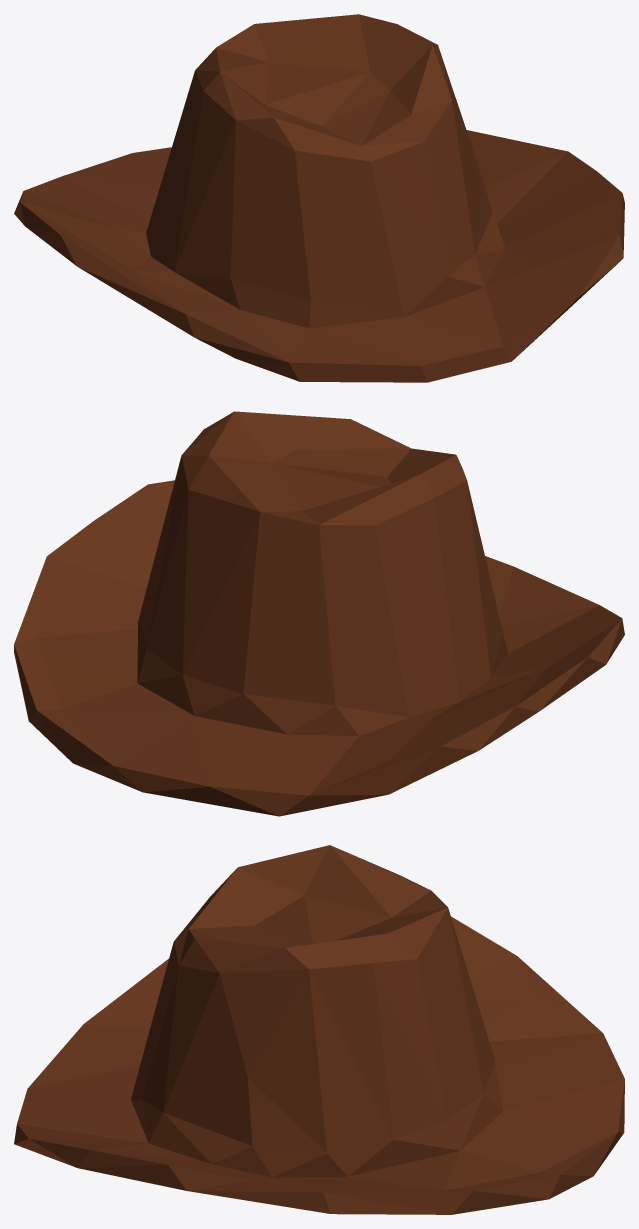
Rendered from cowboyhat.fbx.
3 views of the same model, one above another, from view 1: azimuth 30°, elevation 25°; view 2: azimuth 150°, elevation 25°; view 3: azimuth 270°, elevation 25° (orthographic). The views are drawn at different scales.
Parts seen in each view (by area): view 1: tmp1kz4p8ll.ply; view 2: tmp1kz4p8ll.ply; view 3: tmp1kz4p8ll.ply.
Part boxes in pixels (box(x1,y1,x2,y2)): tmp1kz4p8ll.ply: box(14, 14, 624, 382); tmp1kz4p8ll.ply: box(14, 411, 624, 816); tmp1kz4p8ll.ply: box(14, 845, 624, 1214).
Size of the model in its own units: 39.4 by 16.41 by 39.15.
